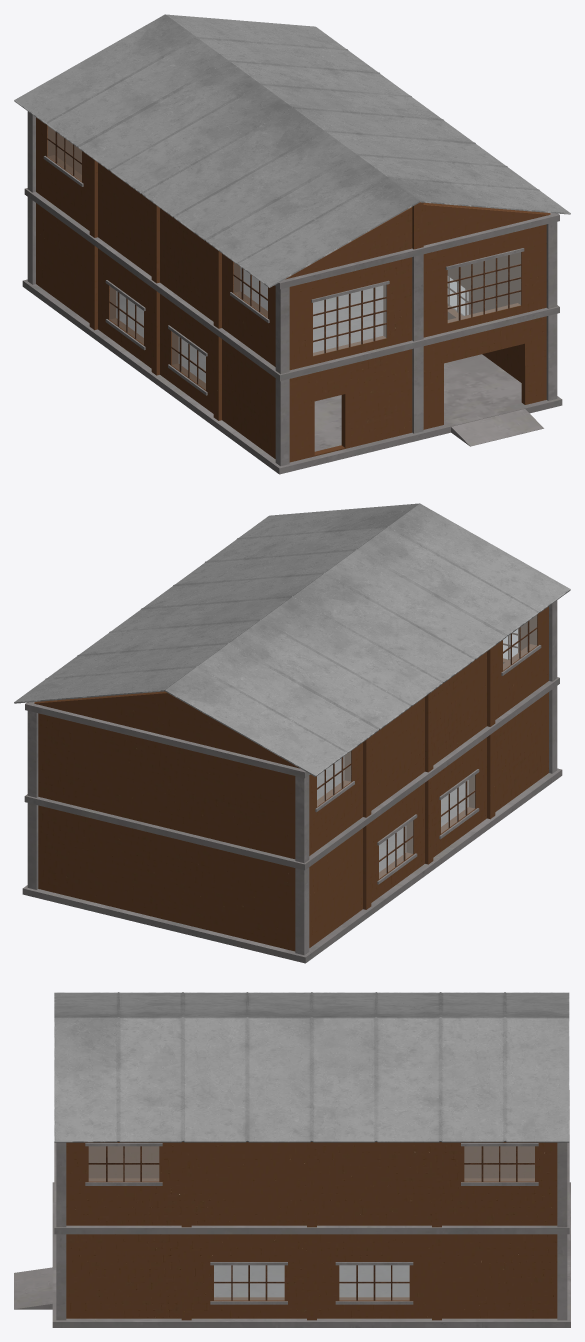
File: garaje.glb
3 views of the same model, one above another, from view 1: azimuth 30°, elevation 25°; view 2: azimuth 150°, elevation 25°; view 3: azimuth 270°, elevation 25° (orthographic).
Parts seen in each view (by area): view 1: pasted__Techo, polySurface1, pasted__pasted__Pared_Der1, pasted__Suelo, pasted__pasted__Suelo2, pasted__Cristal_Izq, pasted__Cristal_Der, pasted__pasted__Pared_Der2, pasted__Suelo2, pasted__Pilar_05, pasted__polySurface1, pasted__Pilar_06 (+9 smaller); view 2: pasted__Techo, pasted__Pared_Trasera, pasted__pasted__Pared_Der1, pasted__Suelo, pasted__pasted__Suelo2, pasted__Suelo2, pasted__pasted__pasted__pasted__Pilar_01, pasted__Pilar_07, pasted__pasted__Pilar_04, pasted__Pilar_05, pasted__pasted__Pilar_02, pasted__pasted__Pilar_03 (+4 smaller); view 3: pasted__Techo, pasted__pasted__Pared_Der2, pasted__Suelo, pasted__pasted__Suelo2, pasted__pasted__Pared_Der1, pasted__pasted__Ventana_04.003, pasted__pasted__Ventana_03.001, pasted__pasted__Ventana_02, pasted__pasted__Ventana_01, pasted__Pilar_10, pasted__Pilar_06, pasted__Pilar_07 (+3 smaller).
Part boxes in pixels (x1,y1,x2,y2): pasted__Techo: (14, 14, 570, 287); polySurface1: (285, 202, 550, 462); pasted__pasted__Pared_Der1: (36, 117, 275, 458); pasted__Suelo: (22, 267, 562, 474); pasted__pasted__Suelo2: (24, 188, 559, 381); pasted__Cristal_Izq: (313, 285, 386, 355); pasted__Cristal_Der: (447, 252, 520, 322); pasted__pasted__Pared_Der2: (447, 213, 550, 382); pasted__Suelo2: (274, 213, 559, 289); pasted__Pilar_05: (275, 286, 289, 466); pasted__polySurface1: (412, 254, 423, 433); pasted__Pilar_06: (546, 222, 557, 400); pasted__Techo: (14, 503, 570, 776); pasted__Pared_Trasera: (34, 691, 299, 951); pasted__pasted__Pared_Der1: (309, 606, 548, 947); pasted__Suelo: (22, 756, 562, 963); pasted__pasted__Suelo2: (24, 677, 559, 870); pasted__Suelo2: (25, 702, 310, 778); pasted__pasted__pasted__pasted__Pilar_01: (295, 775, 309, 955); pasted__Pilar_07: (27, 711, 38, 889); pasted__pasted__Pilar_04: (487, 646, 495, 819); pasted__Pilar_05: (549, 600, 557, 773); pasted__pasted__Pilar_02: (363, 736, 371, 909); pasted__pasted__Pilar_03: (425, 691, 433, 864); pasted__Techo: (54, 992, 569, 1142); pasted__pasted__Pared_Der2: (66, 1142, 557, 1318); pasted__Suelo: (52, 1182, 570, 1327); pasted__pasted__Suelo2: (54, 1090, 569, 1234); pasted__pasted__Pared_Der1: (88, 1146, 534, 1178); pasted__pasted__Ventana_04.003: (88, 1146, 159, 1181); pasted__pasted__Ventana_03.001: (214, 1265, 284, 1300); pasted__pasted__Ventana_02: (339, 1265, 409, 1300); pasted__pasted__Ventana_01: (464, 1146, 534, 1181); pasted__Pilar_10: (181, 1142, 191, 1320); pasted__Pilar_06: (56, 1142, 66, 1320); pasted__Pilar_07: (557, 1142, 567, 1320).
Size of the model in its own units: 12.25 by 9.27 by 19.39.
10 materials, 9 textured.
